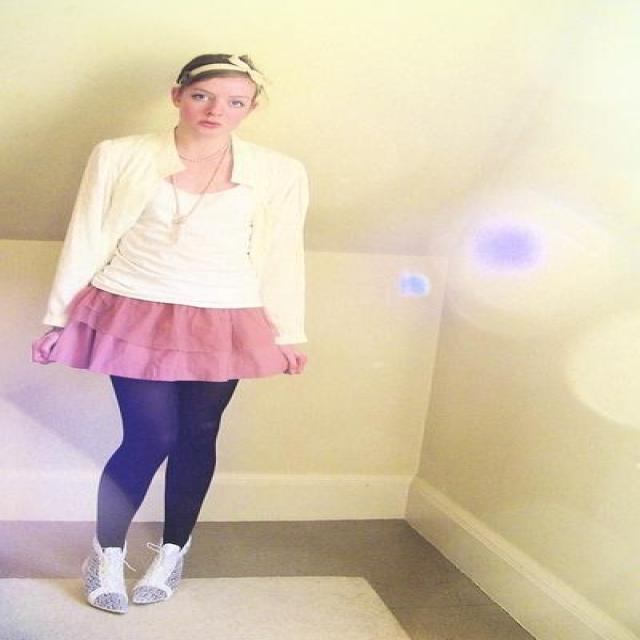shirt: (43, 134, 307, 343)
shoe: (74, 580, 164, 614)
skirt: (32, 282, 307, 381)
